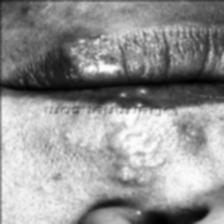Toxin: (101, 102, 165, 186), (62, 31, 108, 66)
